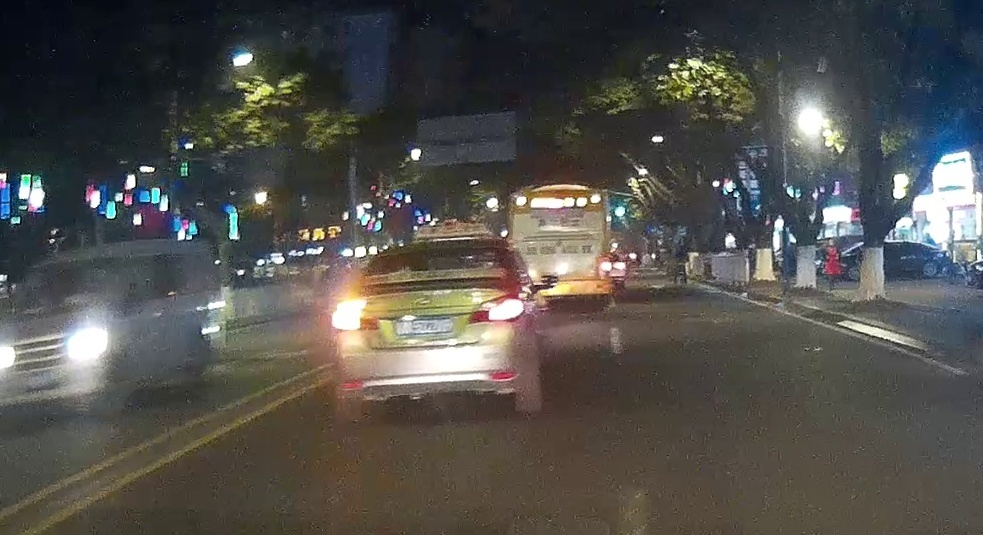L_light: (331, 299, 380, 332)
R_light: (466, 292, 527, 324)
T_light: (420, 250, 443, 255)
night-left: (329, 235, 541, 424)
